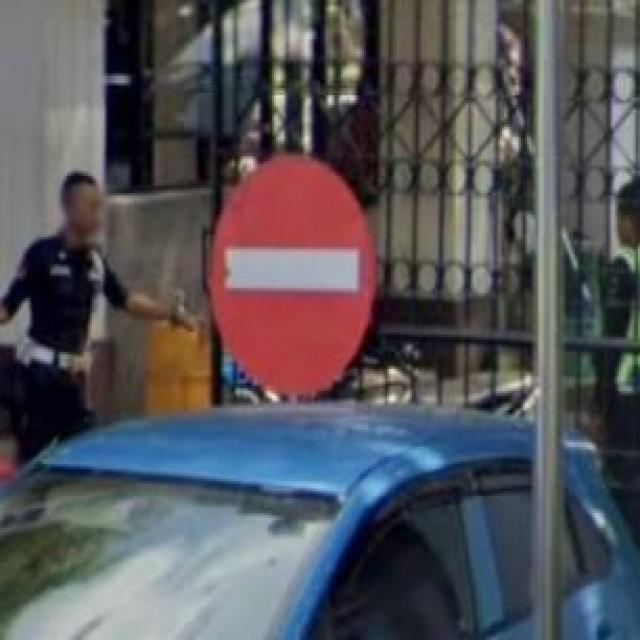traffic sign: (209, 154, 372, 396)
